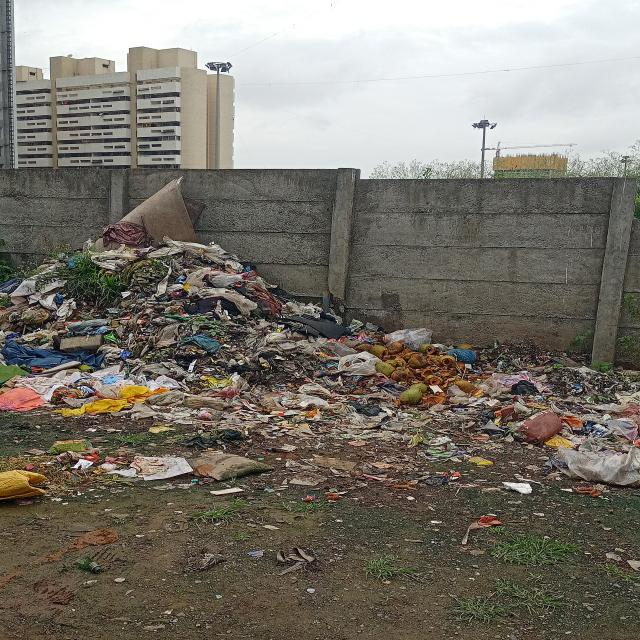garbage: (262, 284, 634, 493), (0, 226, 257, 489)
